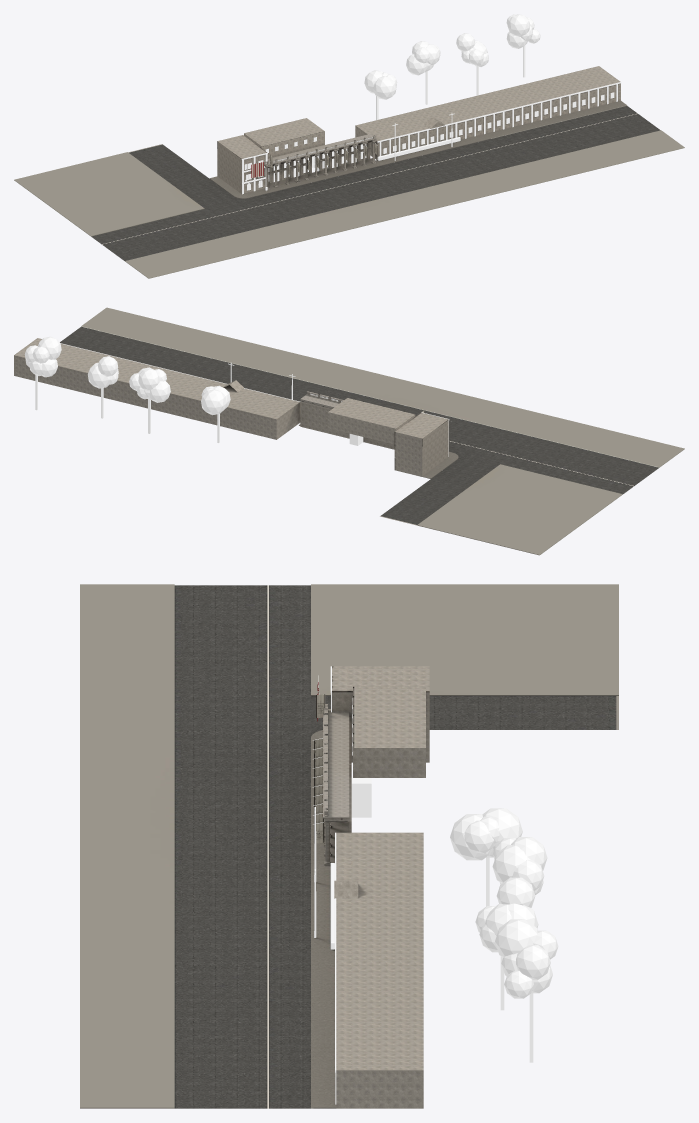
File: lamarr-mgm-gate.glb
3 views of the same model, one above another, from view 1: azimuth 30°, elevation 25°; view 2: azimuth 150°, elevation 25°; view 3: azimuth 270°, elevation 25° (orthographic). The views are drawn at different scales.
Visible parts, largest first — view 1: street, sidewalk_near, corner_across, long_building, sidewalk_studio, upper_storey, artifact_corner_building, long_building_pilasters, tree_3, tree_1, portico_back_wall, tree_2 (+7 smaller); view 2: street, sidewalk_near, corner_across, long_building, artifact_corner_building, upper_storey, tree_3, tree_1, portico_back_wall, tree_2, tree_0; view 3: street, sidewalk_near, corner_across, long_building, upper_storey, sidewalk_studio, tree_3, artifact_corner_building, tree_0, artifact_colonnade, tree_2, tree_1 (+1 smaller).
Part boxes in pixels (x1,y1,x2,y2): street: [91, 106, 660, 260]; sidewalk_near: [125, 130, 684, 278]; corner_across: [14, 152, 204, 236]; long_building: [355, 66, 620, 159]; sidewalk_studio: [209, 100, 626, 198]; upper_storey: [244, 118, 324, 158]; artifact_corner_building: [217, 135, 266, 193]; long_building_pilasters: [377, 82, 621, 155]; tree_3: [506, 14, 540, 77]; tree_1: [406, 41, 440, 104]; portico_back_wall: [268, 142, 370, 183]; tree_2: [456, 33, 488, 95]; street: [60, 326, 658, 525]; sidewalk_near: [81, 307, 684, 467]; corner_across: [417, 464, 622, 555]; long_building: [14, 338, 300, 439]; artifact_corner_building: [394, 412, 448, 476]; upper_storey: [328, 398, 415, 444]; tree_3: [24, 336, 61, 410]; tree_1: [129, 367, 170, 433]; portico_back_wall: [300, 401, 394, 449]; tree_2: [87, 356, 118, 418]; tree_0: [201, 385, 230, 442]; street: [174, 585, 618, 1108]; sidewalk_near: [80, 584, 174, 1108]; corner_across: [311, 584, 618, 695]; long_building: [336, 832, 423, 1108]; upper_storey: [353, 686, 425, 777]; sidewalk_studio: [311, 730, 348, 1108]; tree_3: [495, 919, 558, 1062]; artifact_corner_building: [332, 666, 429, 762]; tree_0: [450, 808, 522, 906]; artifact_colonnade: [323, 709, 349, 821]; tree_2: [475, 877, 538, 1010]; tree_1: [492, 837, 547, 894].
Size of what is drawn, in the model's own units: 170 by 20.17 by 74.
Materials: 5 (4 with a texture image).
